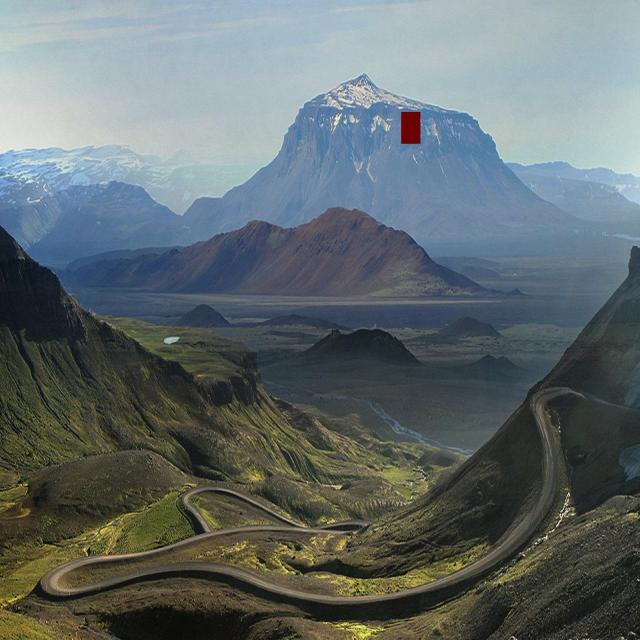RedSquare: (397, 105, 425, 149)
